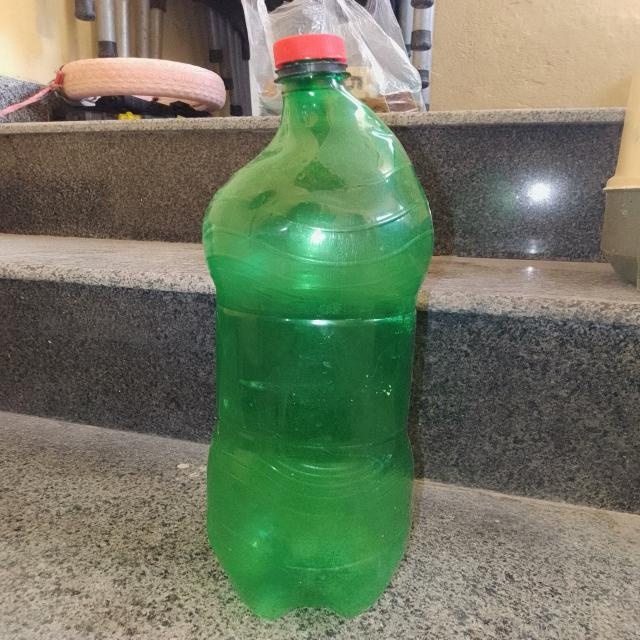bottle: (183, 23, 462, 630)
cap: (254, 31, 362, 81)
